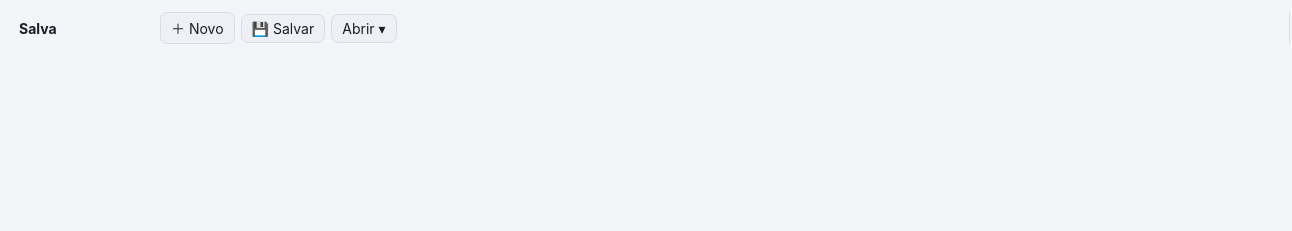
it: FileMenu › falha ao renomear música já salva mostra o alerta de salvamento
The width and height of the screenshot is (1292, 231).
Replace the text in the field named "Nome da música" with "Salvaa" at (75, 28), box [12, 14, 138, 42]
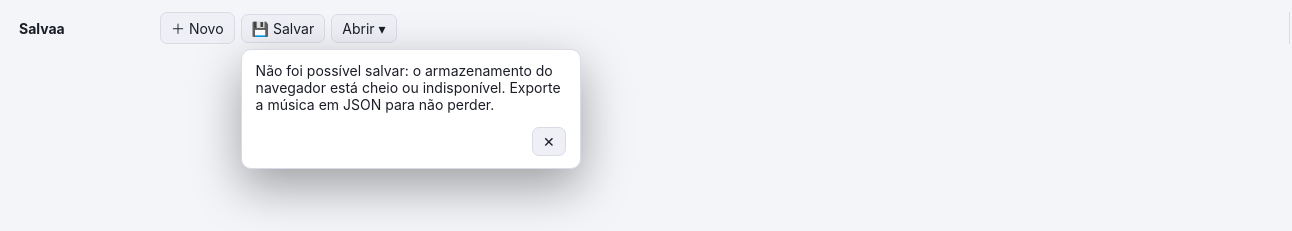
Result: the message shows "Não foi possível salvar" at [256, 62, 561, 112]
